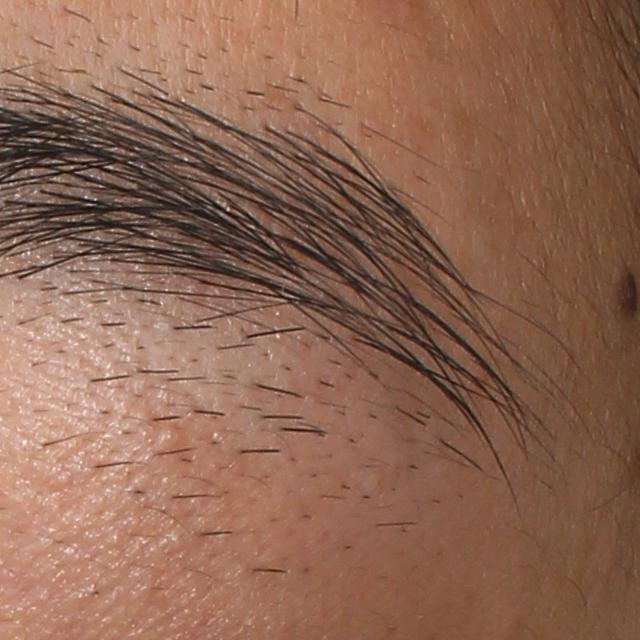comedo: (155, 424, 179, 448)
